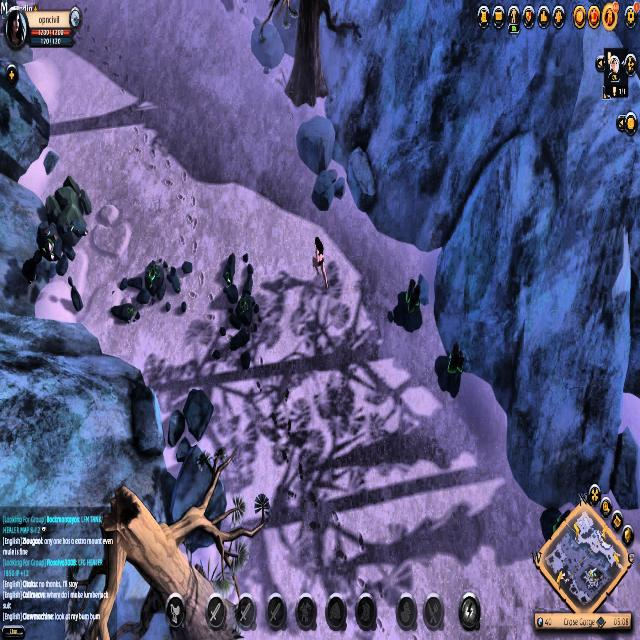sandstone: (43, 174, 94, 244)
tin_ore: (432, 334, 470, 403), (391, 273, 428, 338)
